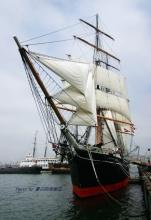fanchuan: (12, 12, 125, 198)
otherboat: (18, 155, 65, 169)
